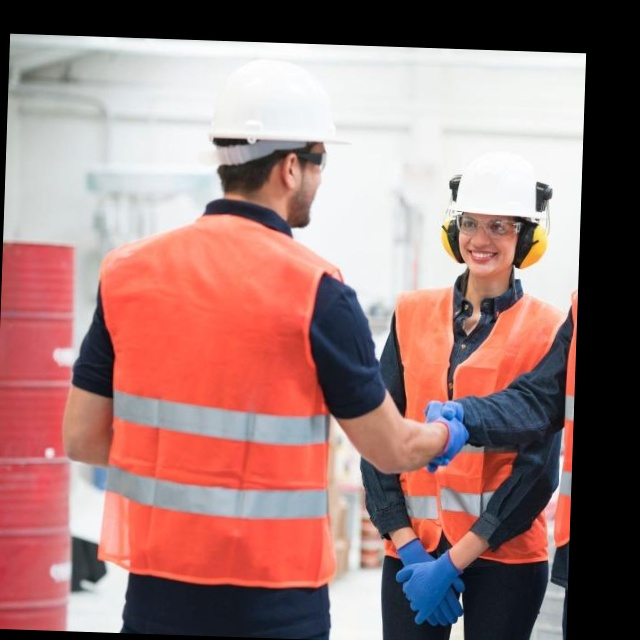Con_Chaleco: (85, 219, 346, 595), (377, 283, 571, 560)
